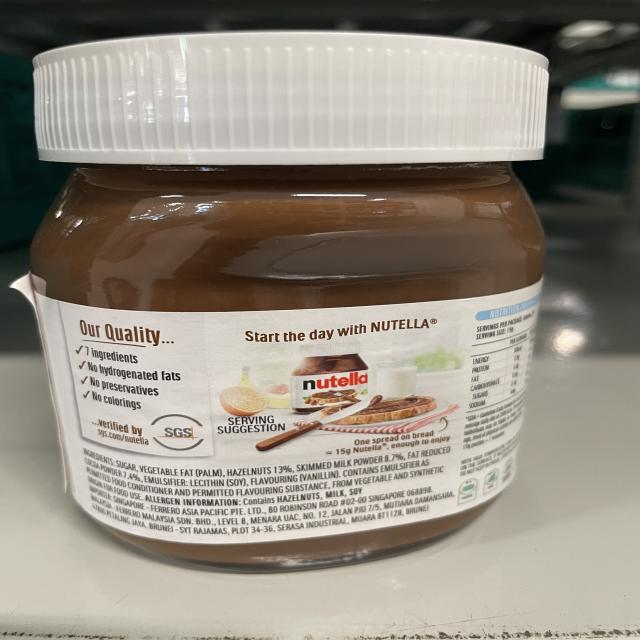object_name: (31, 44, 539, 564)
